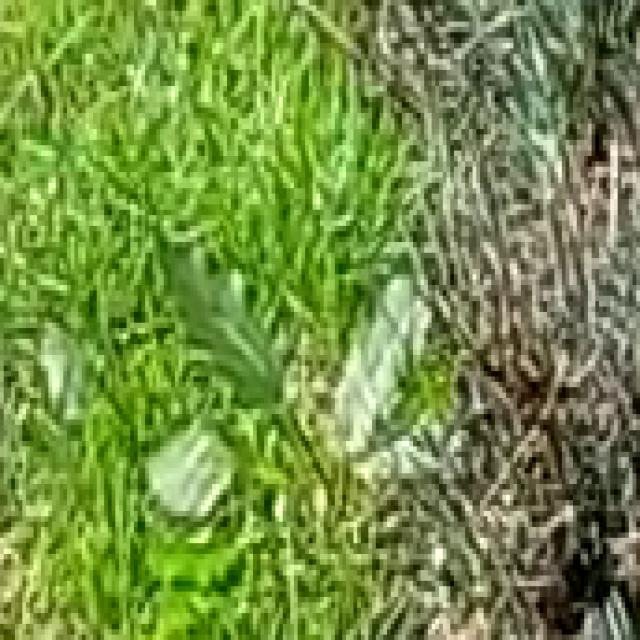organic waste: (153, 194, 439, 516)
